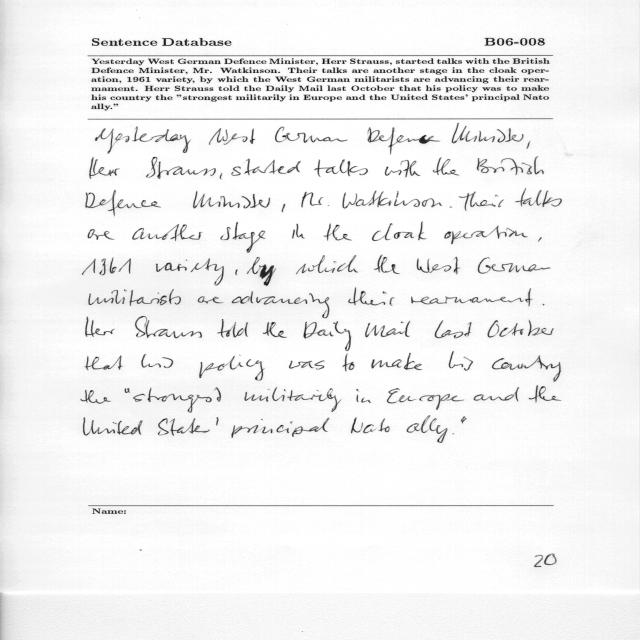word: (96, 126, 191, 154), (232, 291, 329, 318), (245, 387, 342, 412), (133, 387, 221, 413), (411, 289, 533, 307), (368, 127, 440, 155), (232, 418, 330, 438), (86, 190, 161, 216), (156, 258, 224, 286), (342, 191, 442, 209), (492, 356, 561, 382), (199, 355, 265, 381), (387, 388, 464, 410), (444, 226, 528, 245), (89, 289, 181, 306), (146, 157, 216, 179), (452, 123, 524, 144), (135, 317, 202, 339), (220, 222, 266, 253), (304, 321, 351, 351), (193, 191, 270, 209), (477, 157, 544, 176), (231, 158, 301, 176), (275, 126, 348, 143), (478, 257, 550, 274), (132, 224, 203, 241), (487, 320, 554, 338), (296, 255, 358, 274), (158, 417, 219, 436), (407, 415, 448, 443), (84, 418, 143, 436), (372, 222, 427, 241), (314, 159, 368, 177), (82, 257, 131, 275), (371, 353, 422, 370), (459, 192, 504, 211), (515, 189, 562, 207), (247, 257, 276, 286), (348, 288, 394, 306), (209, 128, 255, 145), (417, 257, 460, 275), (365, 321, 410, 337), (474, 387, 519, 402), (351, 417, 390, 434), (90, 157, 120, 179), (435, 321, 471, 339), (385, 160, 421, 177), (86, 316, 115, 337), (217, 319, 248, 338), (529, 385, 561, 403), (85, 356, 123, 371), (323, 223, 352, 241), (374, 255, 400, 274), (449, 351, 473, 371), (433, 157, 459, 175), (141, 354, 173, 368), (301, 192, 329, 207), (81, 390, 111, 404), (263, 322, 287, 338), (289, 360, 324, 370), (88, 229, 114, 240), (342, 353, 355, 372), (356, 389, 371, 403), (292, 224, 305, 239), (198, 297, 224, 304), (461, 417, 467, 424), (282, 204, 286, 212), (124, 388, 130, 393), (527, 141, 530, 149), (538, 237, 542, 242), (235, 269, 238, 275), (220, 173, 222, 179), (450, 206, 452, 208), (543, 304, 545, 306), (452, 433, 454, 434)
